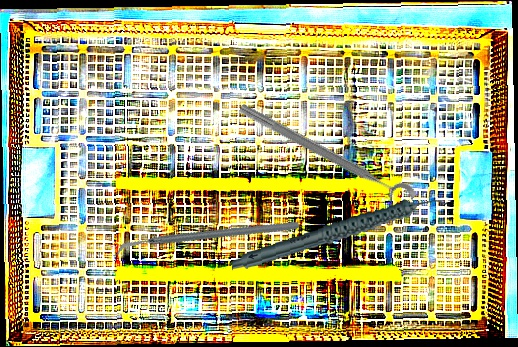Chopper: (112, 171, 301, 306)
Fixation Ring: (230, 98, 419, 218)
Handpiece: (228, 195, 451, 272)
